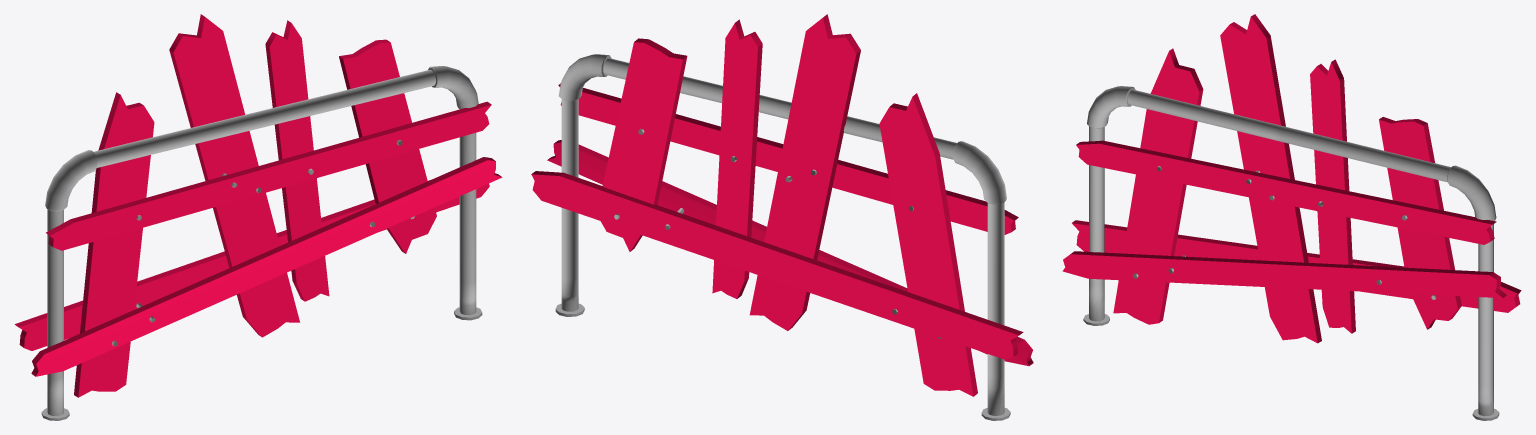
File: staket1.fbx
3 views of the same model, side by side, from view 1: azimuth 30°, elevation 25°; view 2: azimuth 150°, elevation 25°; view 3: azimuth 330°, elevation 25° (orthographic). The views are drawn at different scales.
Parts seen in each view (by area): view 1: pCube18; view 2: pCube18; view 3: pCube18.
Part boxes in pixels (bbox=[...]): pCube18: bbox=[14, 14, 502, 420]; pCube18: bbox=[531, 14, 1033, 420]; pCube18: bbox=[1062, 14, 1521, 420].
Size of the model in its own units: 195 by 140 by 15.18.
